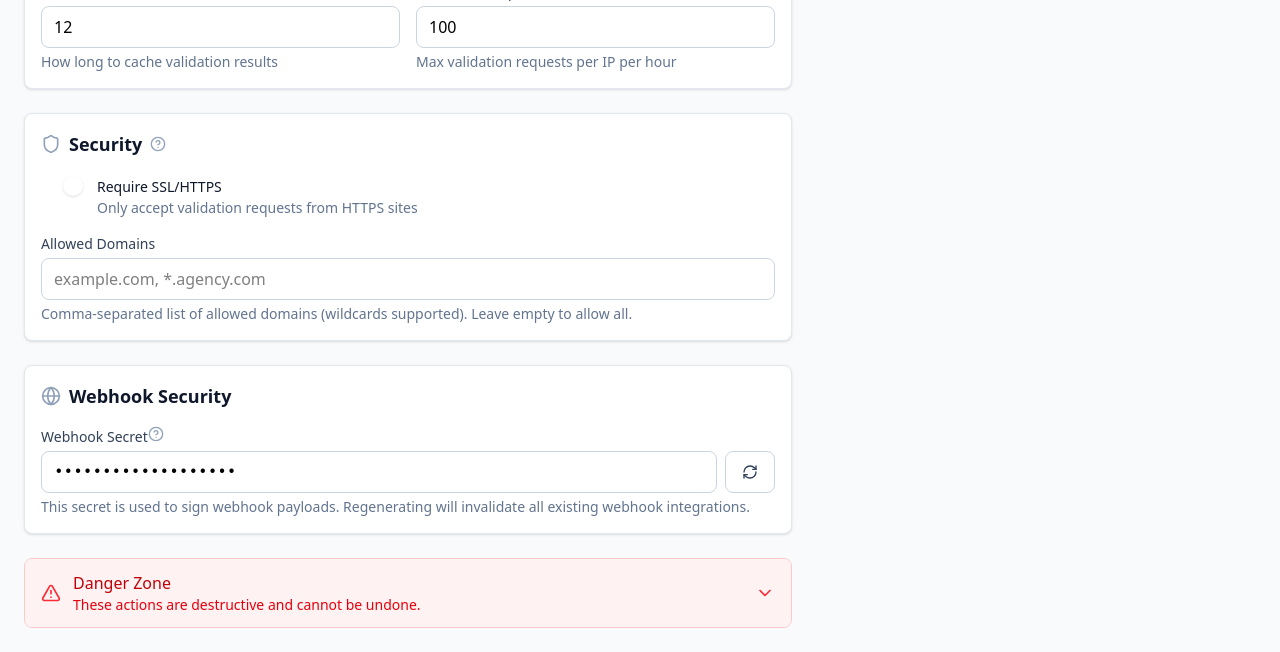
Test case: Settings › danger zone confirmation › opens confirmation dialog for Revoke All
(page scrolled)
What coordinates should you click on to do the following:
click the heading "Danger Zone"
I would click on:
 (122, 583)
Its box is [73,572,171,594].
(page scrolled)
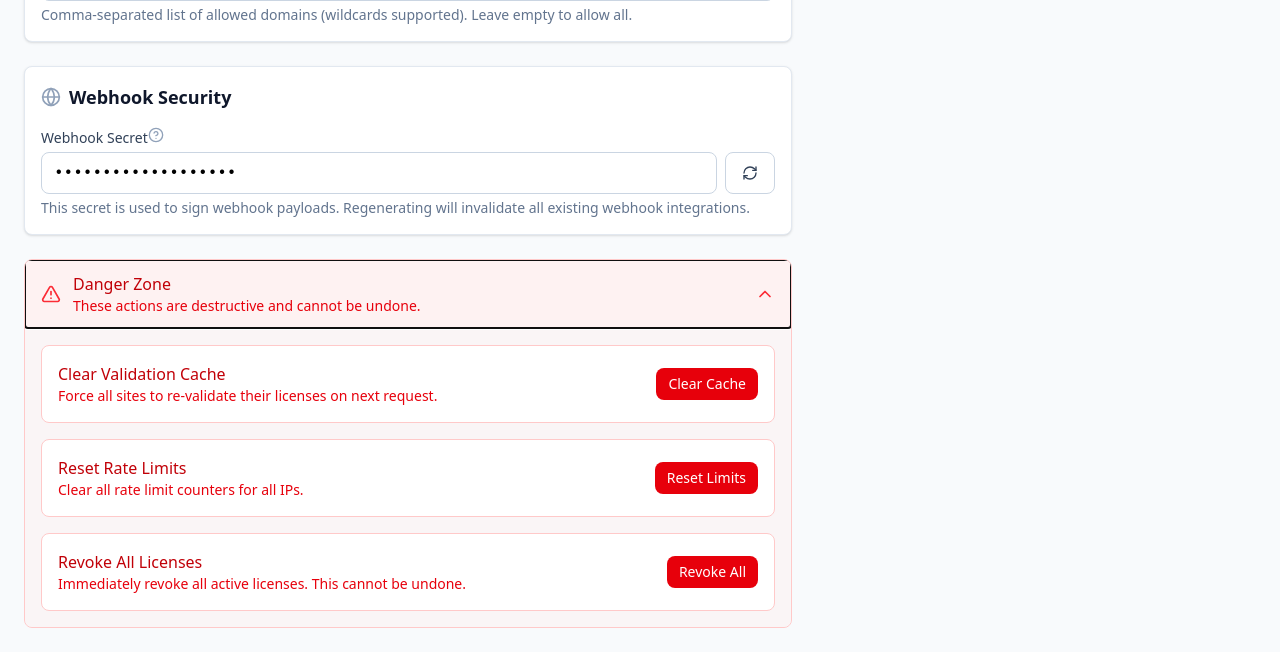
What coordinates should you click on to do the following:
click the button "Revoke All"
I would click on:
 (712, 572)
Its box is [667,556,758,588].
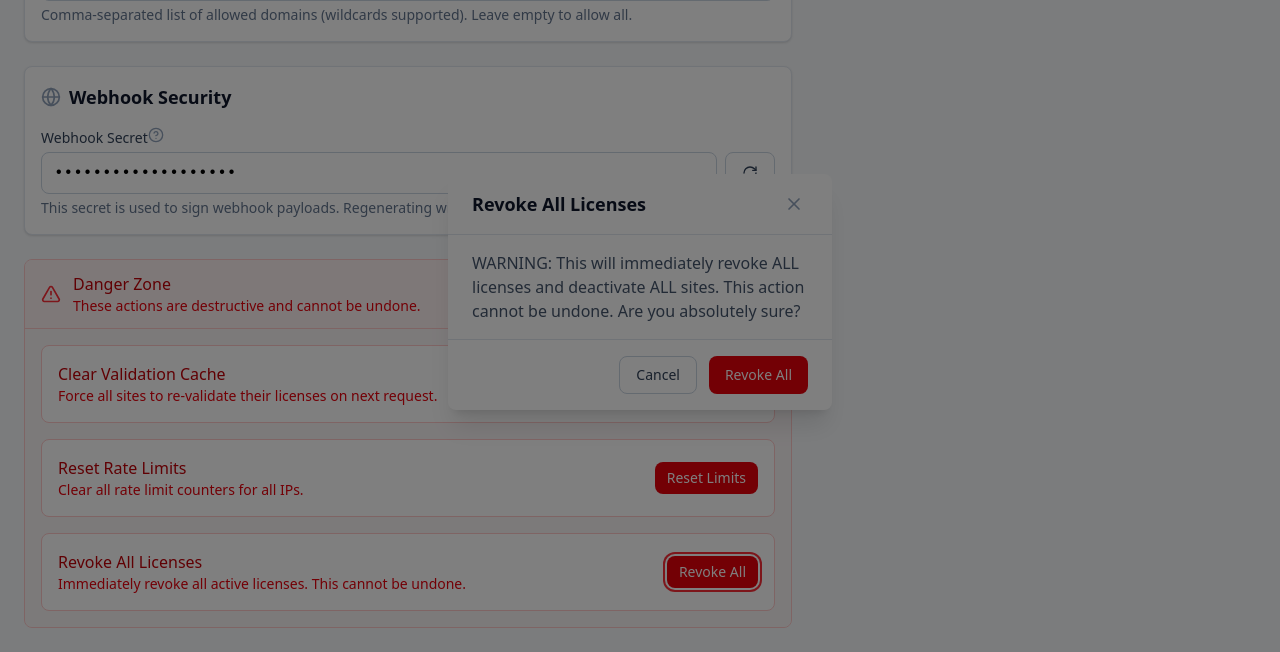
Expected: the text "WARNING: This will immediately revoke ALL licenses" is shown, [472,252,804,322]
